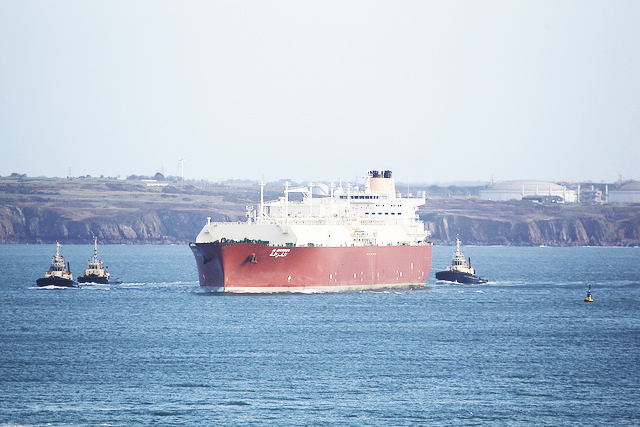LNG_ship: (191, 170, 433, 292)
tug_boat: (438, 237, 490, 285), (34, 243, 74, 288), (82, 238, 114, 287)
